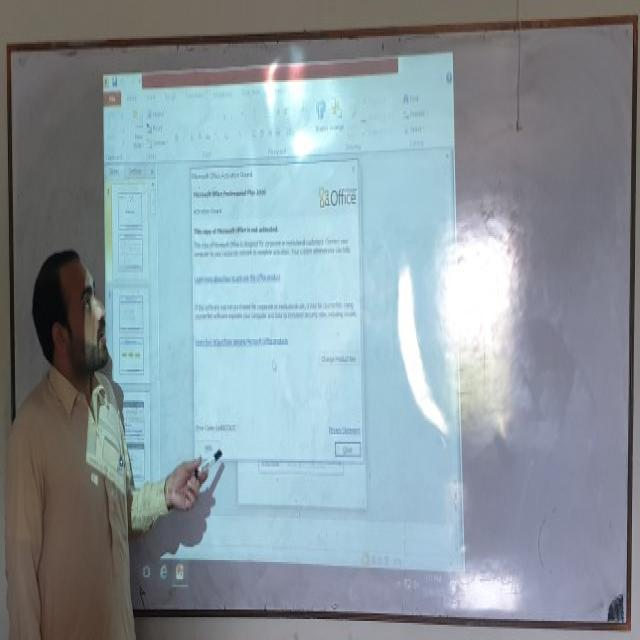Instructor: (12, 248, 127, 640)
Slide: (101, 45, 468, 598)
White-board: (9, 17, 635, 627)
